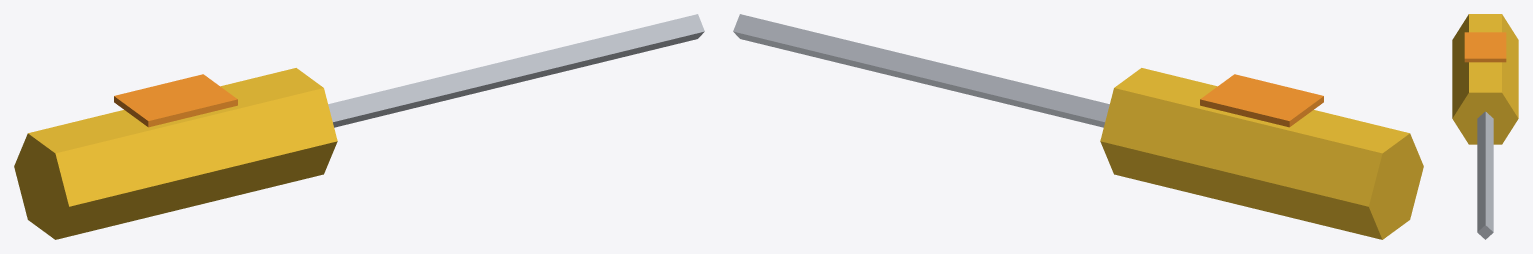
Rendered from tool_screwdriver.glb.
3 renders of one model, left to right at view 1: azimuth 30°, elevation 25°; view 2: azimuth 150°, elevation 25°; view 3: azimuth 270°, elevation 25°, orthographic. The views are drawn at different scales.
Visible parts, largest first — view 1: handle_handle_yellow_tool, shaft_tool_chrome, tag_price_tag; view 2: handle_handle_yellow_tool, shaft_tool_chrome, tag_price_tag; view 3: handle_handle_yellow_tool, shaft_tool_chrome, tag_price_tag.
Boxes of the visible parts, left/top/right/bottom form: handle_handle_yellow_tool: left=14, top=68, right=337, bottom=239; shaft_tool_chrome: left=328, top=14, right=704, bottom=127; tag_price_tag: left=114, top=74, right=237, bottom=127; handle_handle_yellow_tool: left=1100, top=68, right=1423, bottom=239; shaft_tool_chrome: left=733, top=14, right=1109, bottom=127; tag_price_tag: left=1200, top=74, right=1323, bottom=127; handle_handle_yellow_tool: left=1452, top=14, right=1518, bottom=144; shaft_tool_chrome: left=1477, top=111, right=1493, bottom=239; tag_price_tag: left=1464, top=32, right=1506, bottom=62.
Bounding box in the file's own units: 0.22 × 0.0319 × 0.032.
